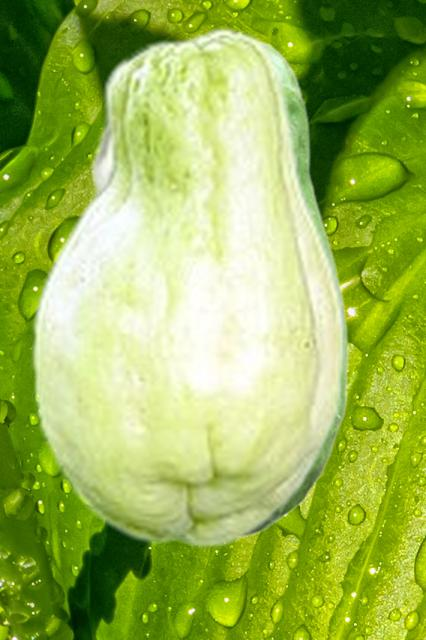sayote: (30, 26, 344, 548), (250, 37, 348, 536)
